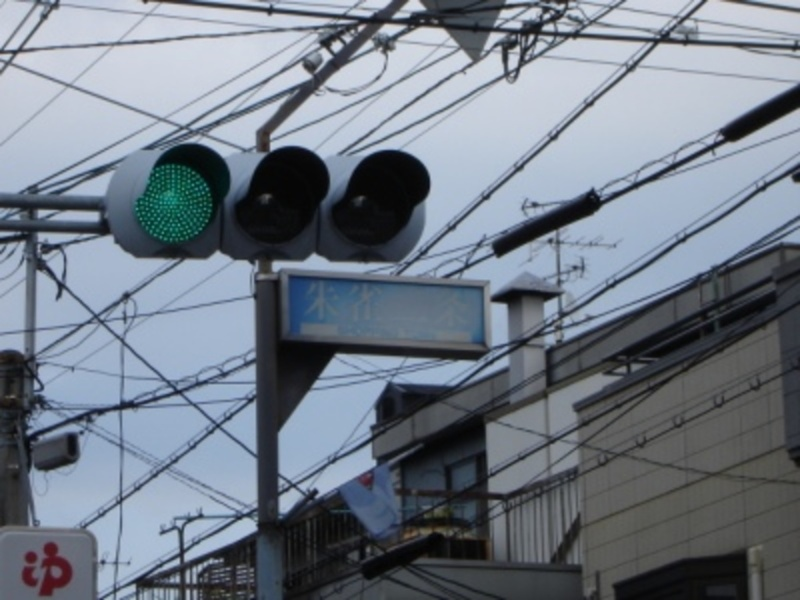green_light: (118, 139, 239, 263)
